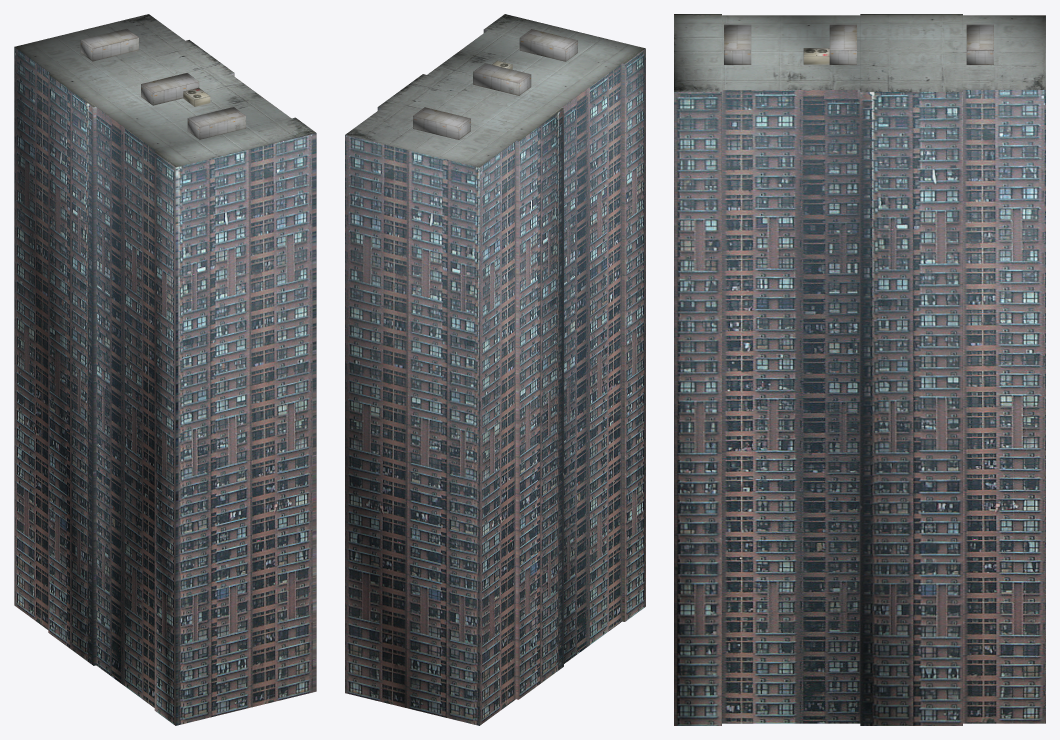
Rendered from building2.obj.
The picture shows the model from 3 angles, left to right: view 1: azimuth 30°, elevation 25°; view 2: azimuth 150°, elevation 25°; view 3: azimuth 270°, elevation 25°; orthographic projection. The views are drawn at different scales.
Bounding box in the file's own units: 22.94 × 88.87 × 46.17.
Materials: 1 (1 with a texture image).
